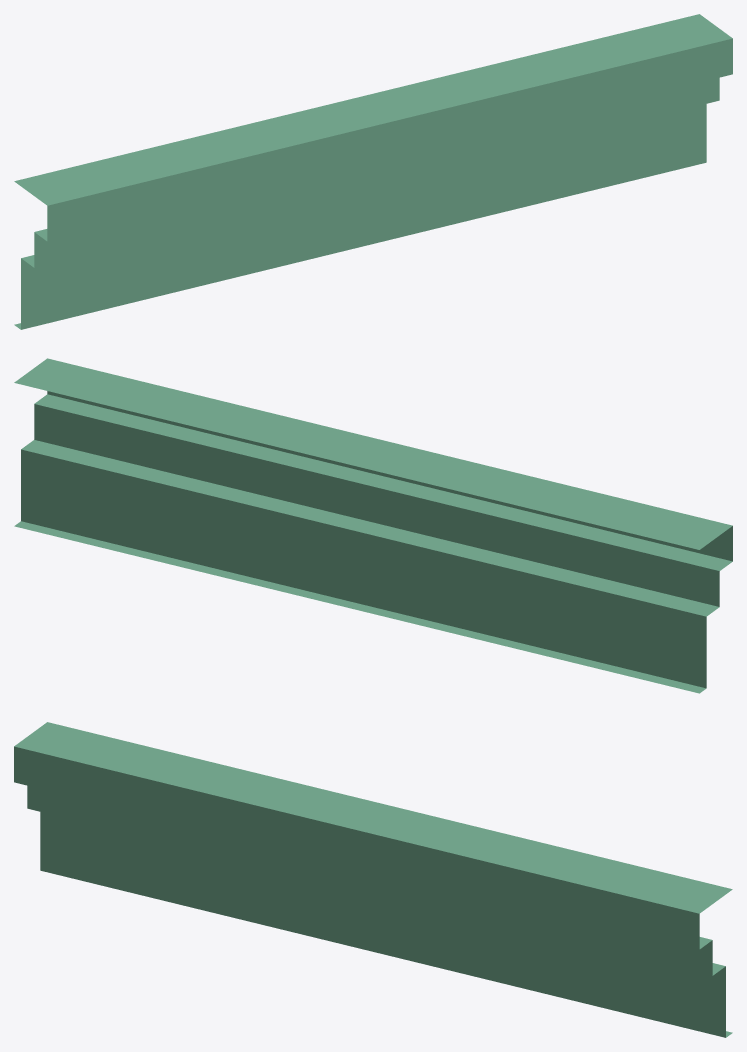
File: object_B1_Top_floors_div.glb
The picture shows the model from 3 angles, top to bottom: view 1: azimuth 30°, elevation 25°; view 2: azimuth 150°, elevation 25°; view 3: azimuth 330°, elevation 25°; orthographic projection.
Visible parts, largest first — view 1: B1 Top floors div; view 2: B1 Top floors div; view 3: B1 Top floors div.
Boxes of the visible parts, left/top/right/bottom form: B1 Top floors div: left=14, top=14, right=732, bottom=329; B1 Top floors div: left=14, top=358, right=732, bottom=693; B1 Top floors div: left=14, top=722, right=732, bottom=1037.
Bounding box in the file's own units: 3 × 0.6 × 0.2531.
